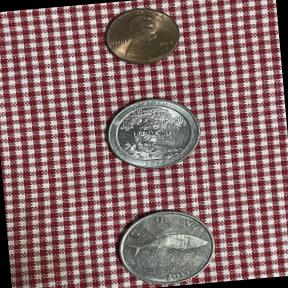2 Euro-B: (106, 202, 222, 288)
US-1cent-B: (96, 3, 186, 73)
US-25cent-B: (98, 91, 208, 176)
